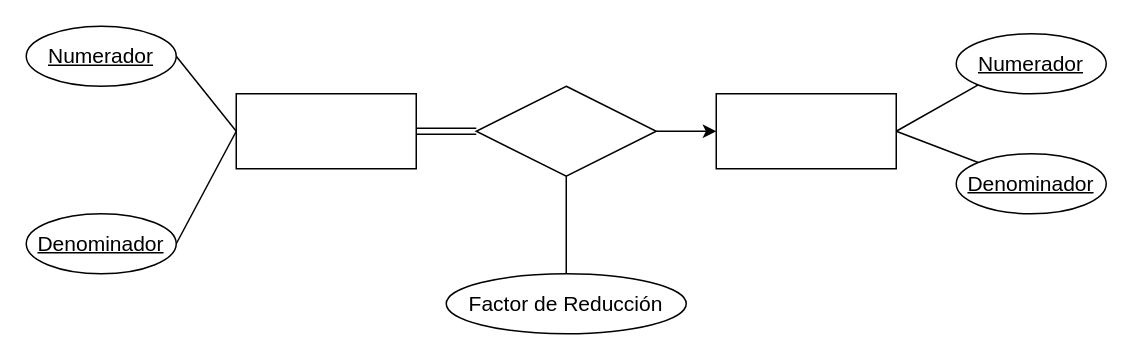
Image size: 1133x360. Some labels were removed from this diagram. The shapes that lost their labels are listed below. From the top down, each one's centre as x and y in pixels, then its label:
the point at 325,130: Número Racional
the point at 565,130: Tener
the point at 805,130: Racional Reducido
